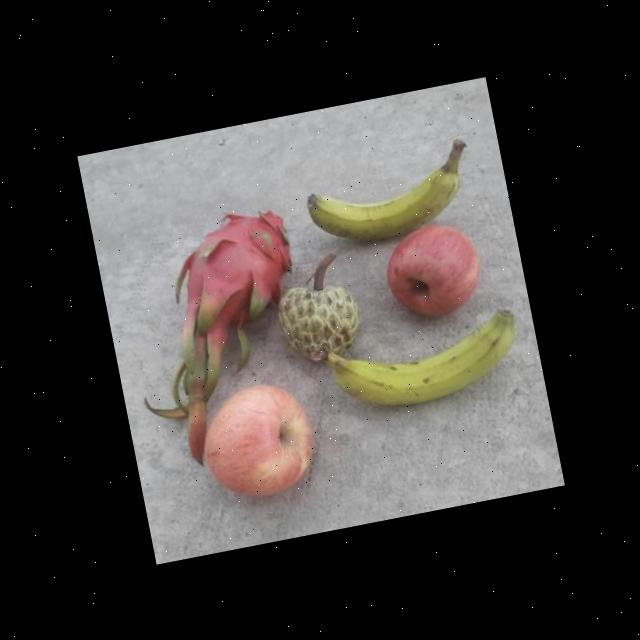Sakya fruit: (266, 248, 367, 370)
apple: (189, 375, 324, 514), (376, 214, 491, 327)
banana: (308, 304, 529, 421), (296, 137, 478, 254)
pitaya: (163, 203, 305, 345)
